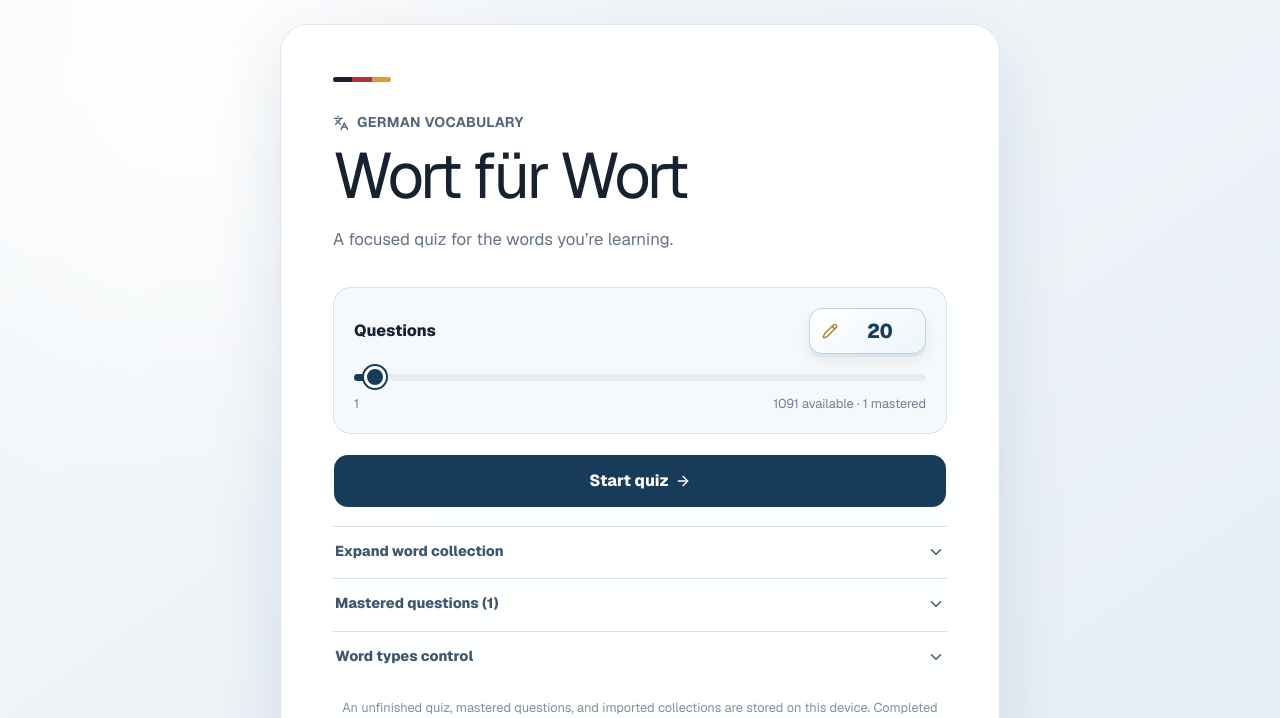
Test: quiz interface › counts hidden questions only for enabled word types
Expected: the text "1091 available · 1 mastered" is shown, [773, 394, 926, 413]
Click the button "Word types control": click(404, 656) [333, 631, 947, 682]
(page scrolled)
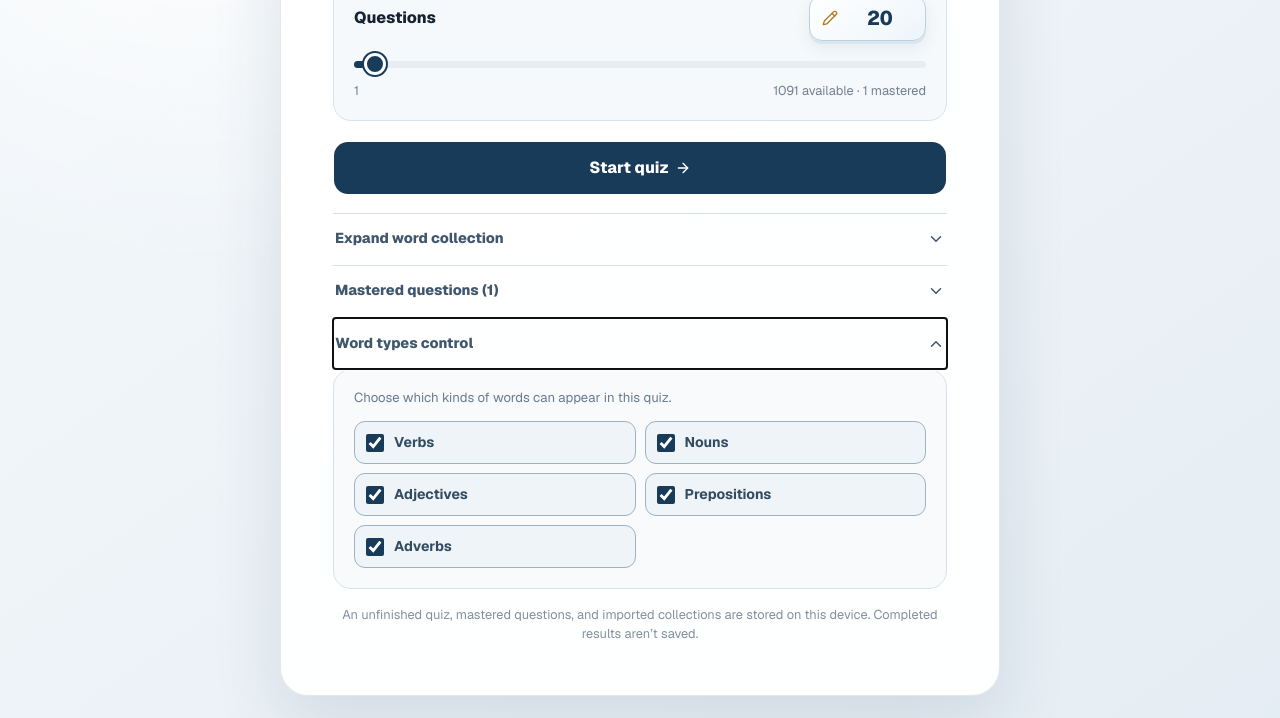
Click the checkbox labelled "Verbs": click(375, 443) [366, 434, 384, 452]
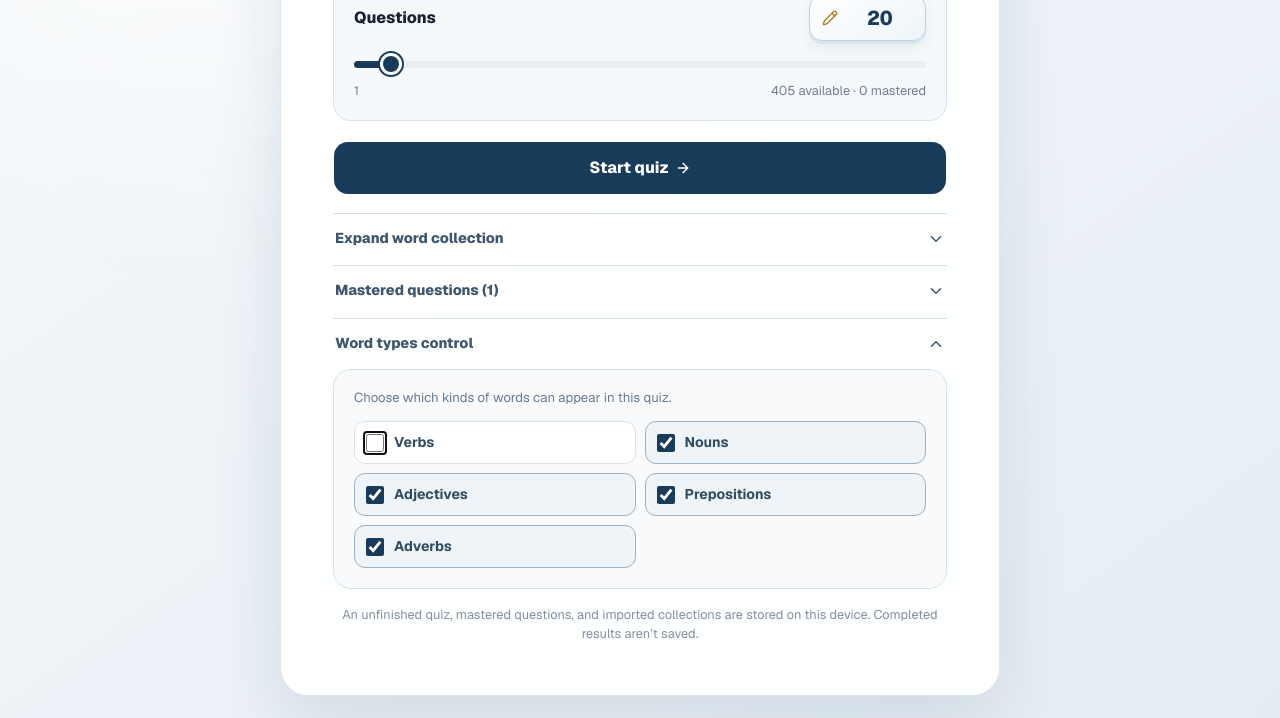
Now the text "405 available · 0 mastered" is shown, box [771, 81, 926, 100]
